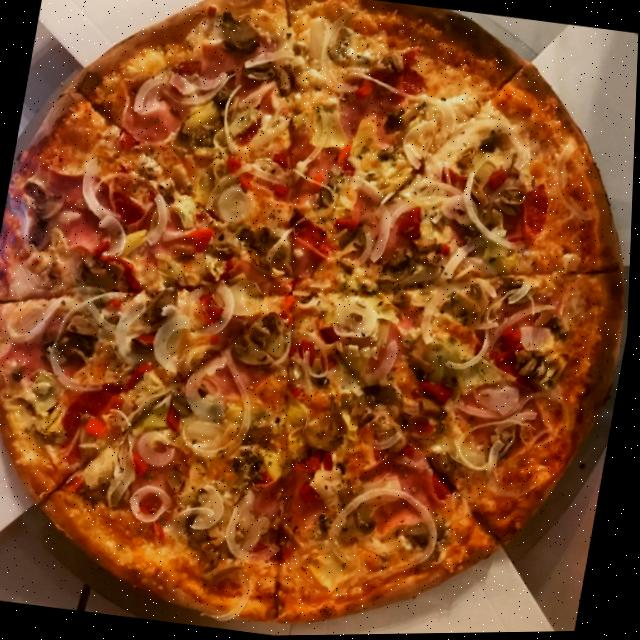mushrooms: (225, 305, 291, 379), (50, 310, 109, 371), (18, 174, 64, 252), (301, 396, 355, 461), (68, 253, 135, 300), (381, 250, 437, 292), (442, 283, 493, 329), (249, 221, 287, 277), (215, 9, 262, 53), (116, 326, 164, 368), (524, 350, 570, 393), (236, 439, 273, 490), (79, 478, 133, 511), (360, 380, 408, 414), (264, 58, 301, 100), (166, 462, 191, 495), (175, 390, 197, 414)
pepperoni: (370, 44, 435, 103), (507, 178, 561, 248)
pizza: (0, 0, 640, 640)
